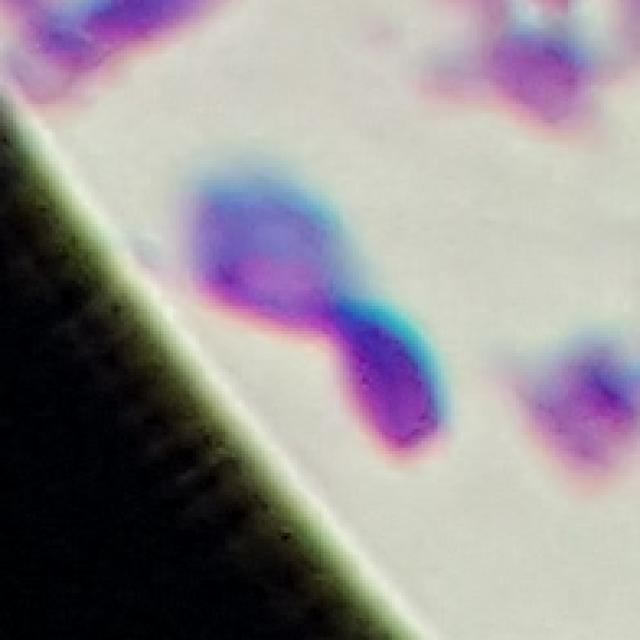non-sperm: (191, 175, 445, 452)
